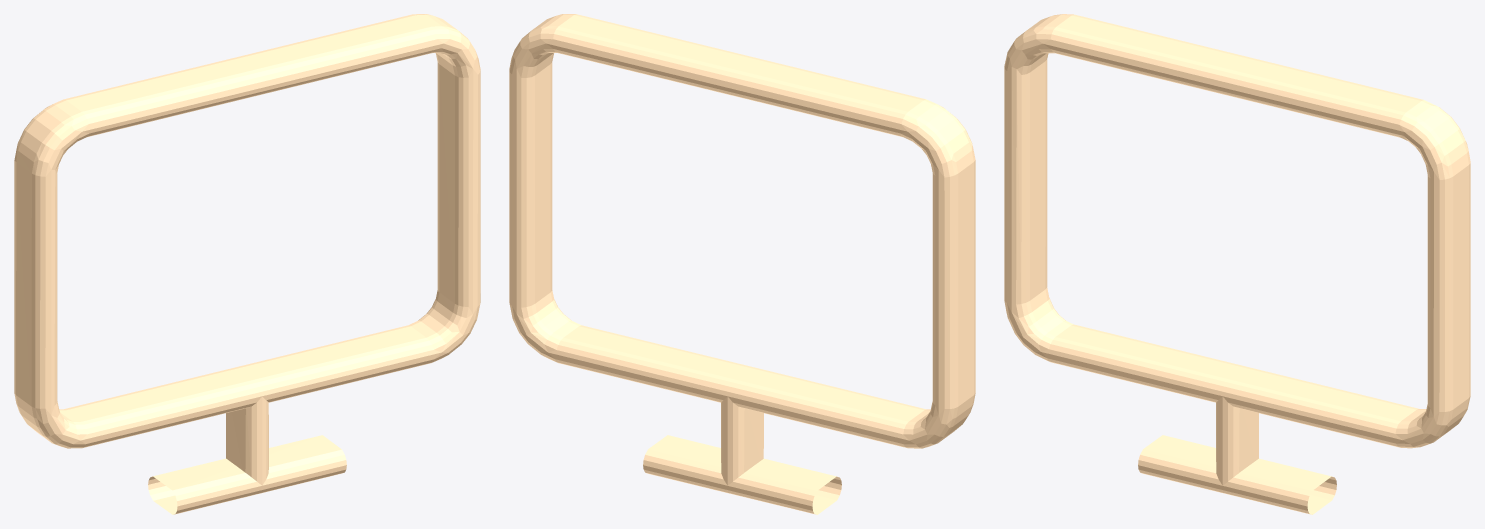
File: desktop.glb
3 views of the same model, side by side, from view 1: azimuth 30°, elevation 25°; view 2: azimuth 150°, elevation 25°; view 3: azimuth 330°, elevation 25° (orthographic).
Parts seen in each view (by area): view 1: showcase_icon_desktop; view 2: showcase_icon_desktop; view 3: showcase_icon_desktop.
Boxes of the visible parts, x1=… form: showcase_icon_desktop: x1=14, y1=14, x2=480, y2=514; showcase_icon_desktop: x1=509, y1=14, x2=975, y2=514; showcase_icon_desktop: x1=1004, y1=14, x2=1470, y2=514.
Bounding box in the file's own units: 1.1 × 0.9989 × 0.126.
